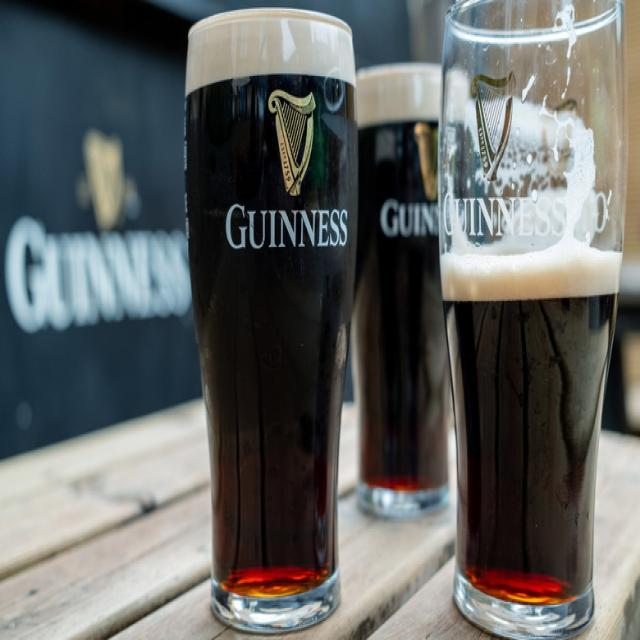too_low_glass: (442, 1, 623, 640)
